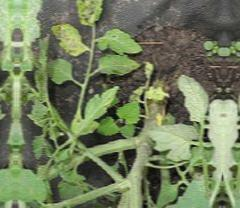Tomato Septoria leaf spot: (47, 21, 92, 58), (76, 0, 107, 28)
